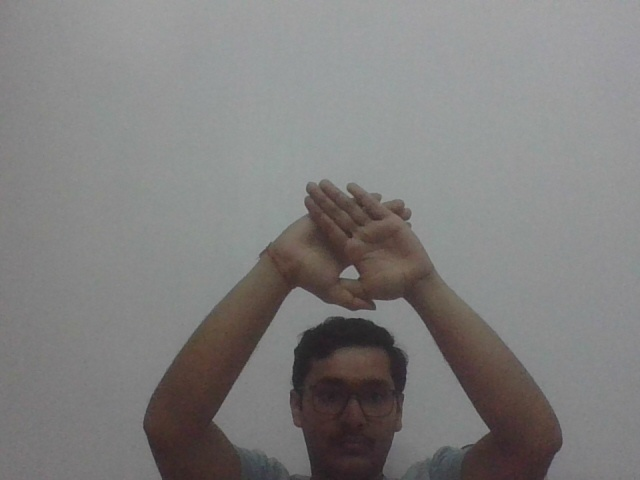W: (269, 171, 437, 316)
